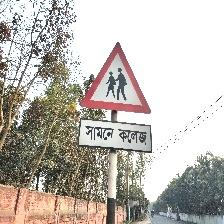College-in-front: (61, 28, 177, 162)
